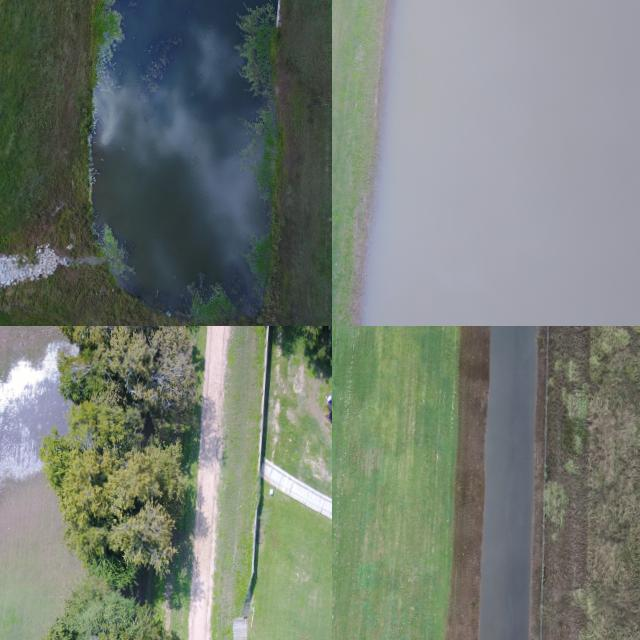fire: (362, 0, 640, 326), (91, 0, 276, 313), (479, 326, 538, 640), (0, 341, 73, 487)
